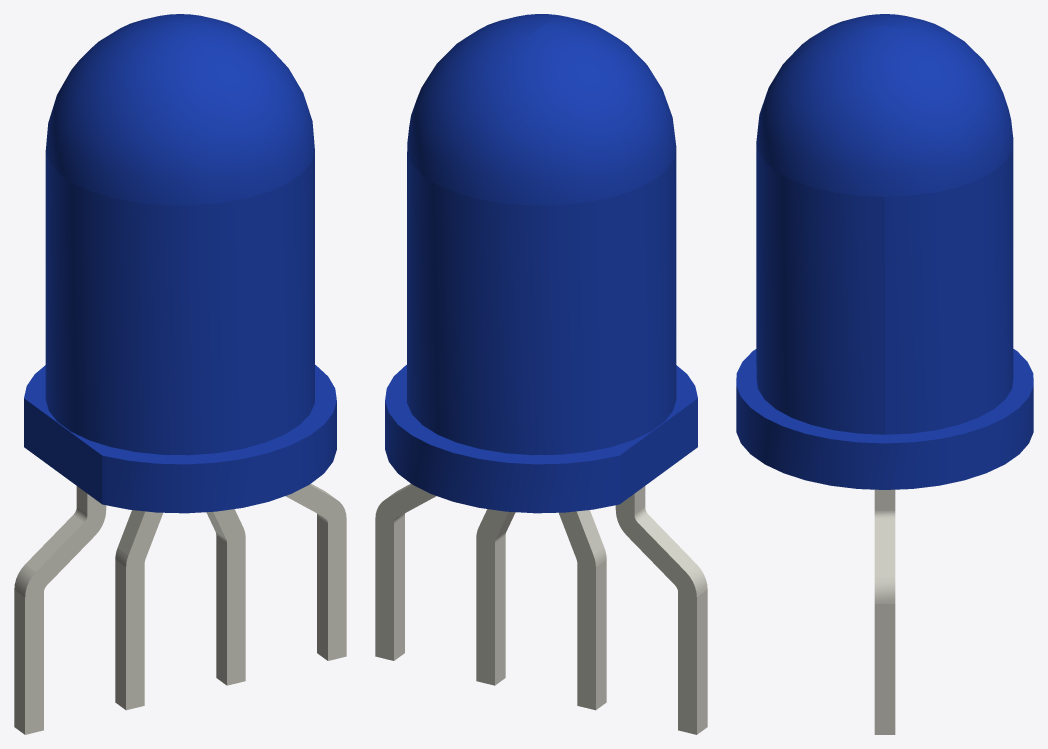
Rendered from kc-led_d5.0mm-4_rgb_wide_pins.glb.
The picture shows the model from 3 angles, left to right: view 1: azimuth 30°, elevation 25°; view 2: azimuth 150°, elevation 25°; view 3: azimuth 270°, elevation 25°; orthographic projection. The views are drawn at different scales.
Visible parts, largest first — view 1: 0_0.08333333333333333_0.4166666666666667_0, 0.6666666666666666_0.6666666666666666_0.5833333333333334_0.8; view 2: 0_0.08333333333333333_0.4166666666666667_0, 0.6666666666666666_0.6666666666666666_0.5833333333333334_0.8; view 3: 0_0.08333333333333333_0.4166666666666667_0, 0.6666666666666666_0.6666666666666666_0.5833333333333334_0.8.
Part boxes in pixels (x1,y1,x2,y2): 0_0.08333333333333333_0.4166666666666667_0: (24,14,336,513); 0.6666666666666666_0.6666666666666666_0.5833333333333334_0.8: (14,484,346,734); 0_0.08333333333333333_0.4166666666666667_0: (385,14,697,513); 0.6666666666666666_0.6666666666666666_0.5833333333333334_0.8: (375,483,707,734); 0_0.08333333333333333_0.4166666666666667_0: (736,14,1033,489); 0.6666666666666666_0.6666666666666666_0.5833333333333334_0.8: (874,489,895,734).
Bounding box in the file's own units: 0.6877 × 1.36 × 0.5783.
